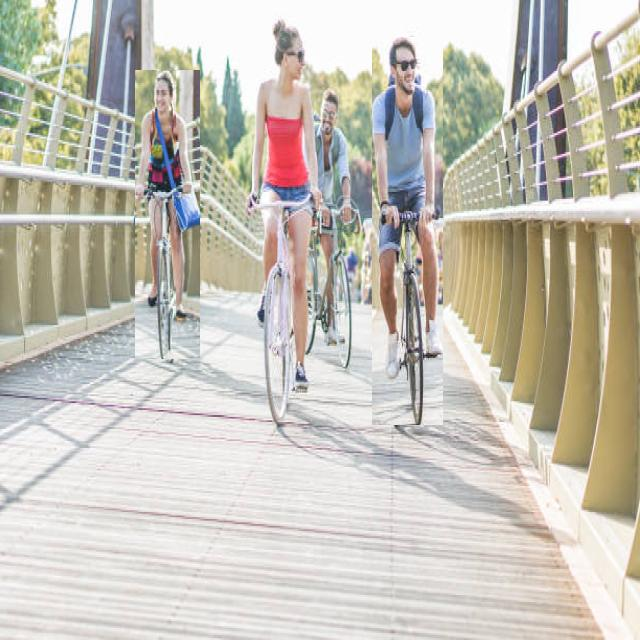bicycle: (246, 21, 320, 421), (372, 37, 442, 425), (135, 70, 200, 359), (308, 89, 356, 367)
